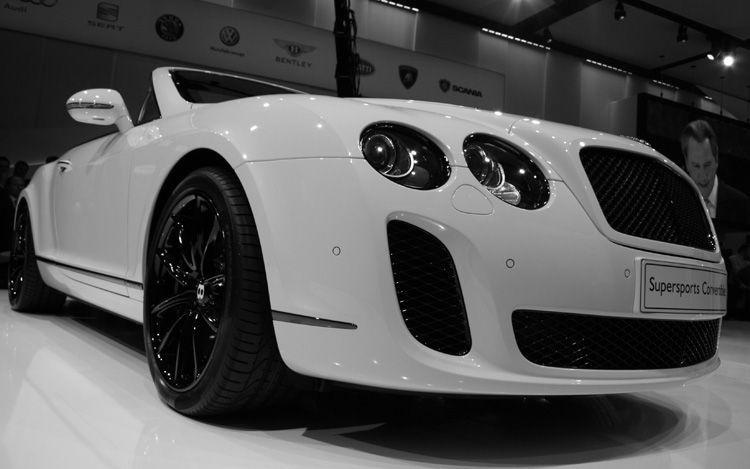car: (13, 67, 728, 423)
